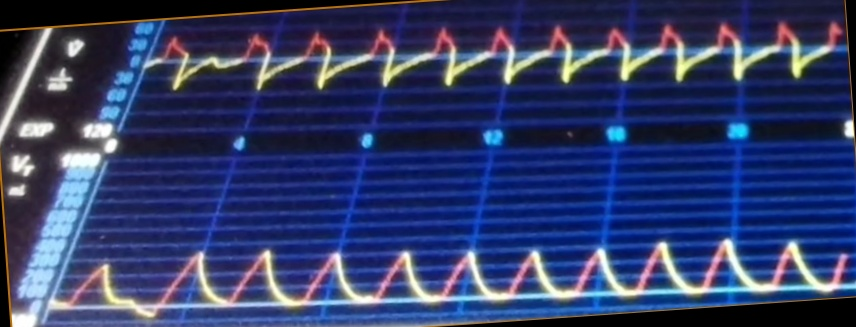Ineffective_effort Flow: (160, 18, 844, 116)
Ineffective_effort Volume: (67, 231, 848, 321)
